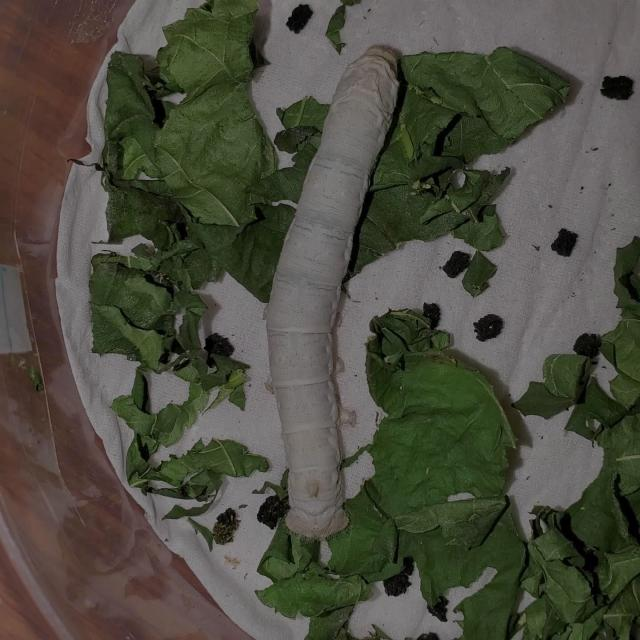Healthy: (254, 37, 416, 539)
